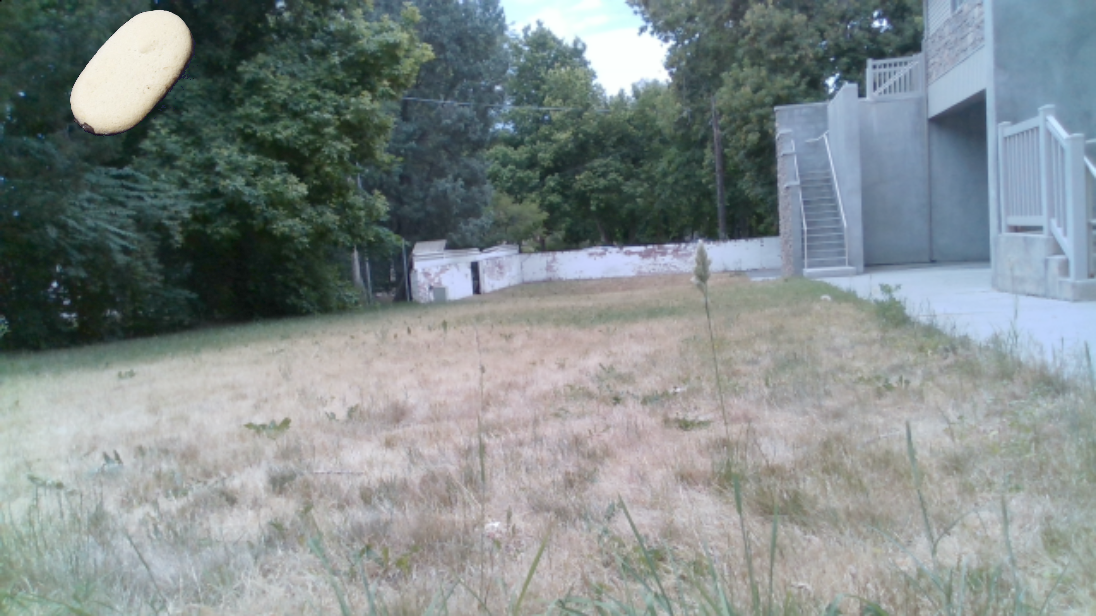test: (59, 5, 208, 148)
